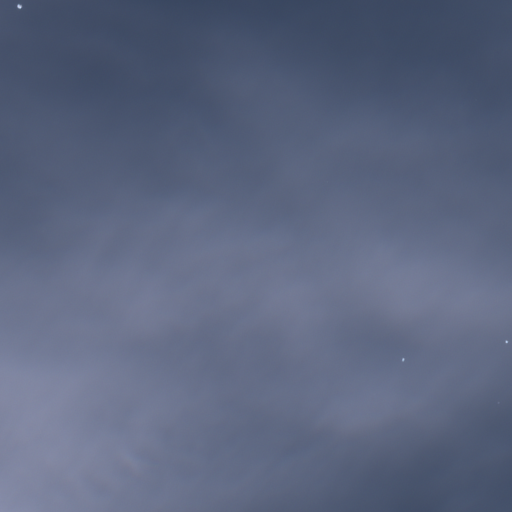Iceberg: (17, 4, 21, 8), (505, 340, 508, 343), (402, 358, 404, 361)
